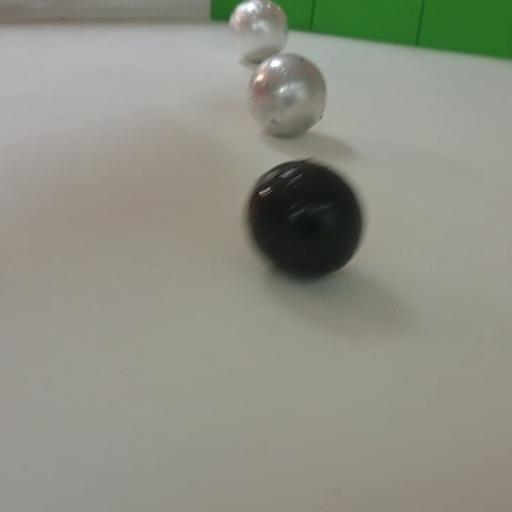alive: (248, 54, 328, 138), (228, 0, 287, 63)
dead: (242, 156, 366, 280)
